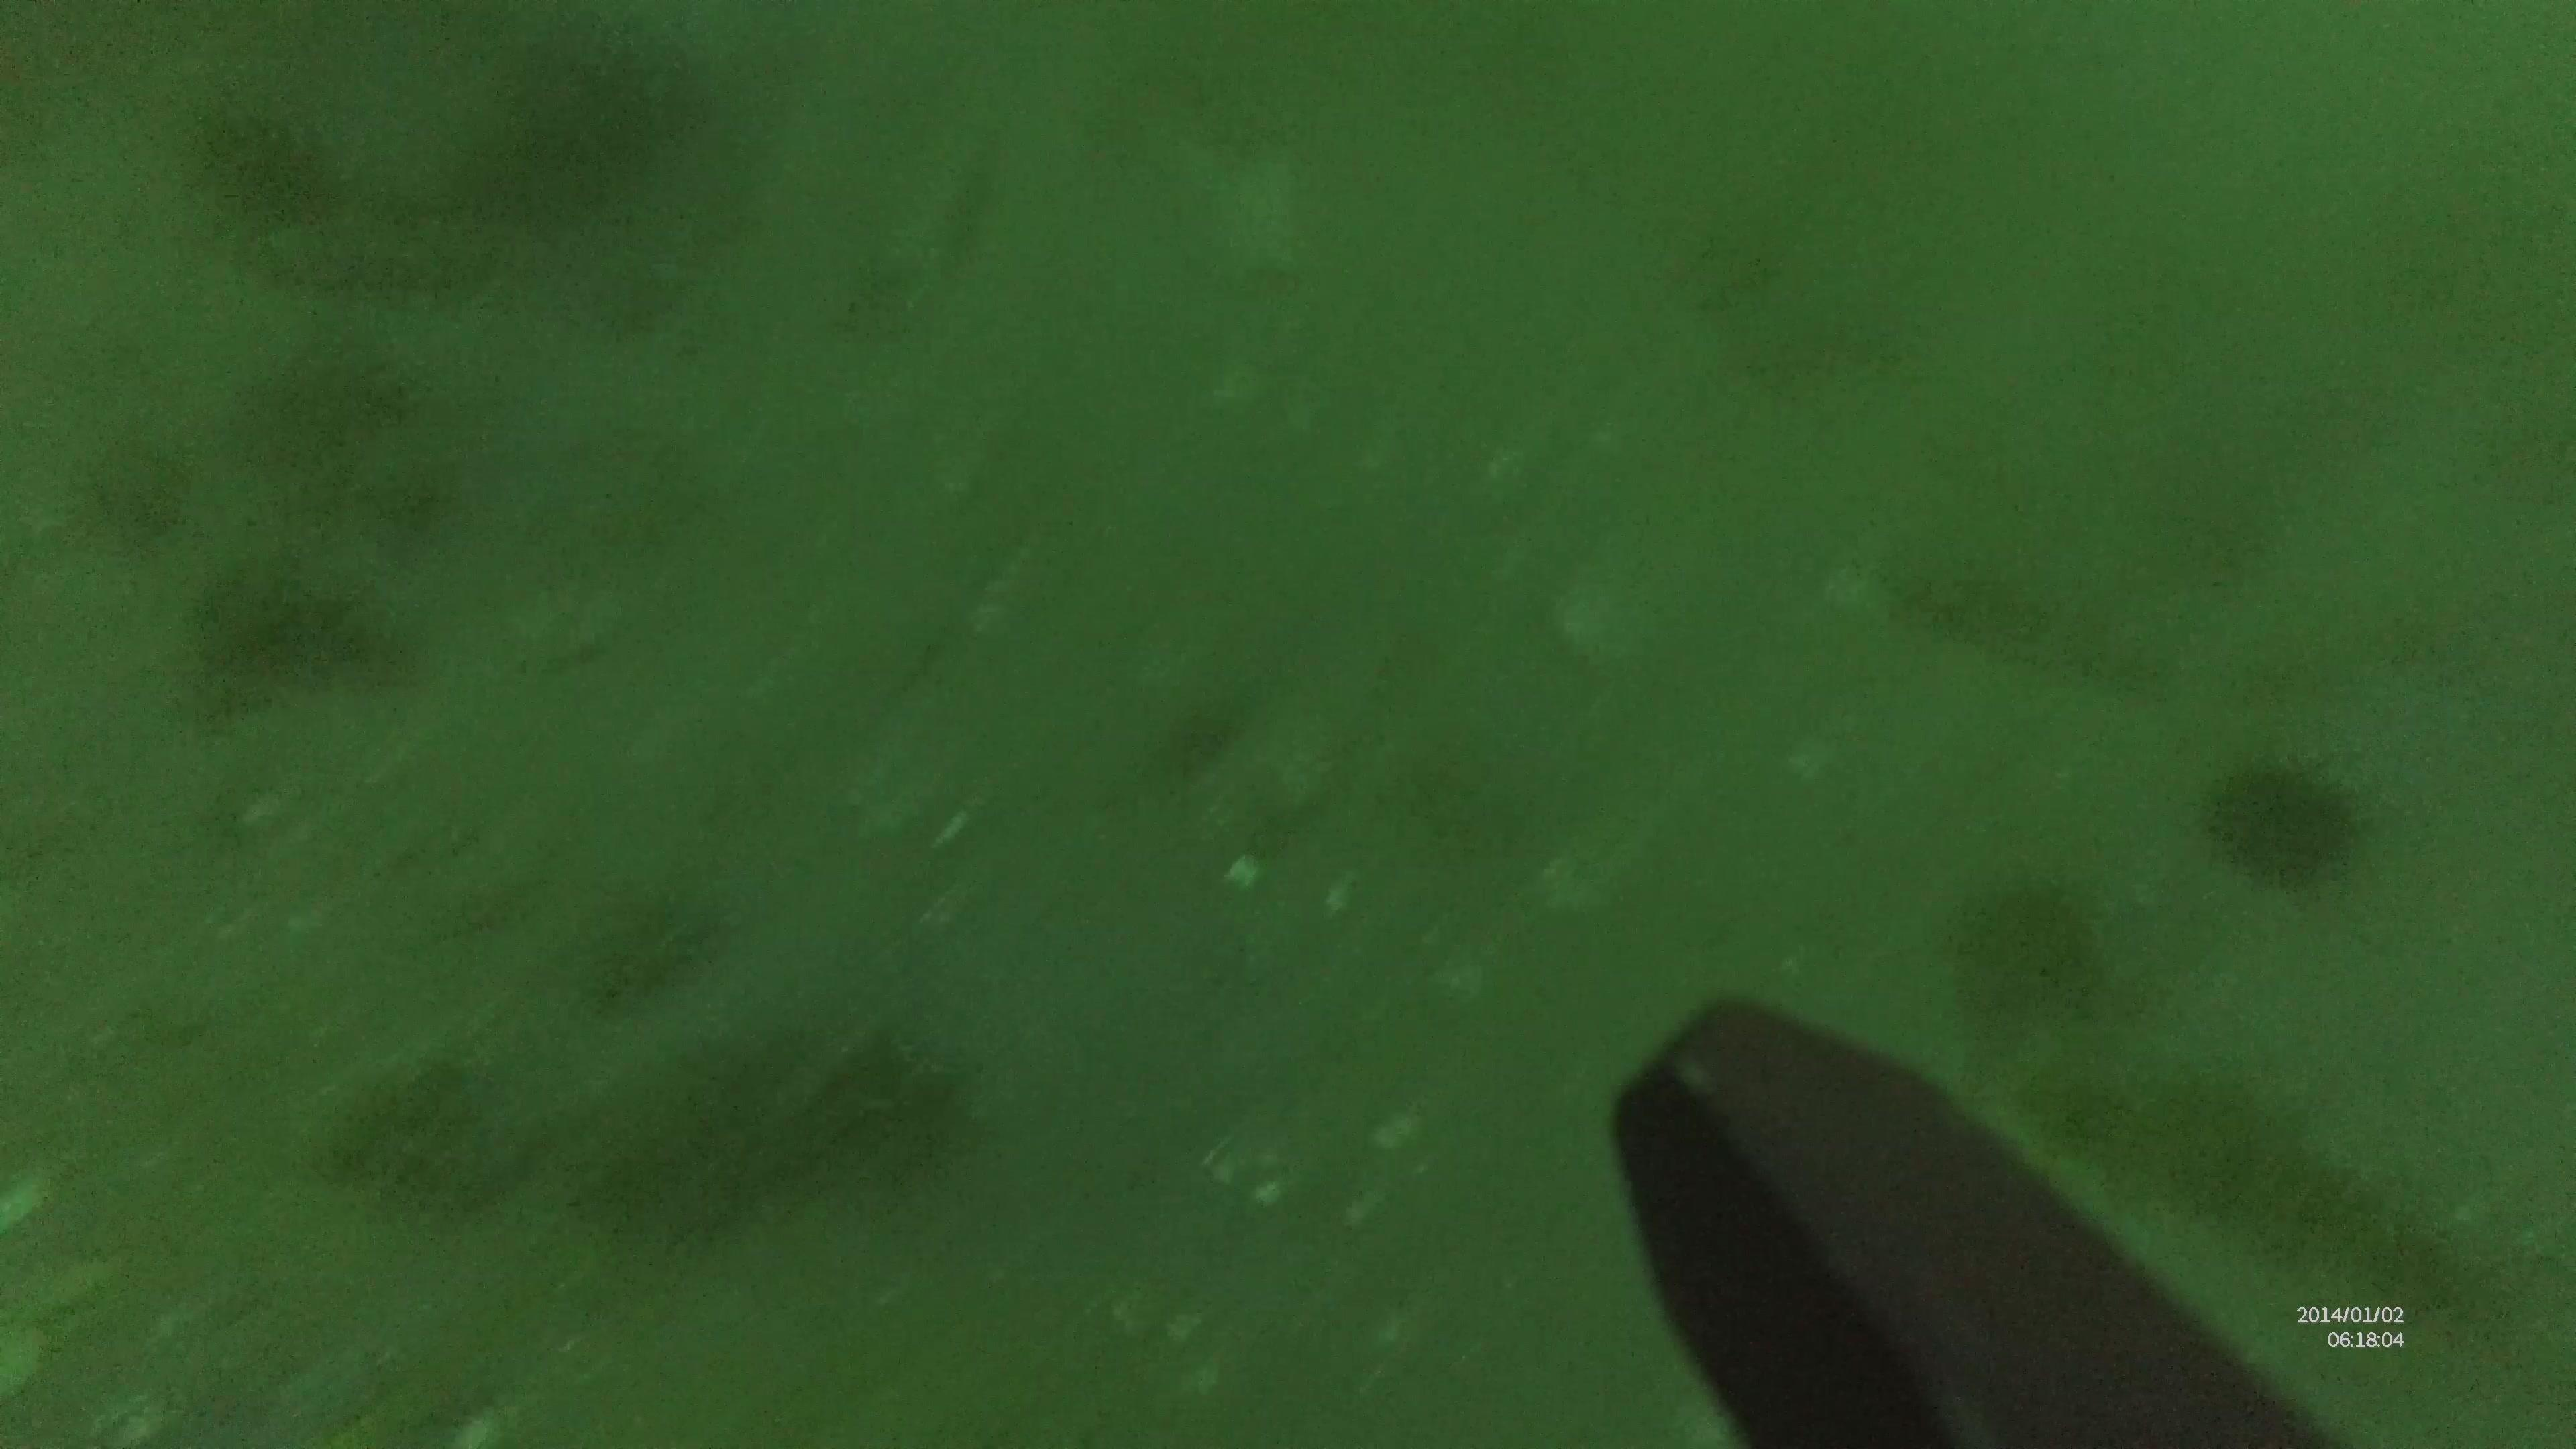echinus: (2201, 752, 2371, 897)
